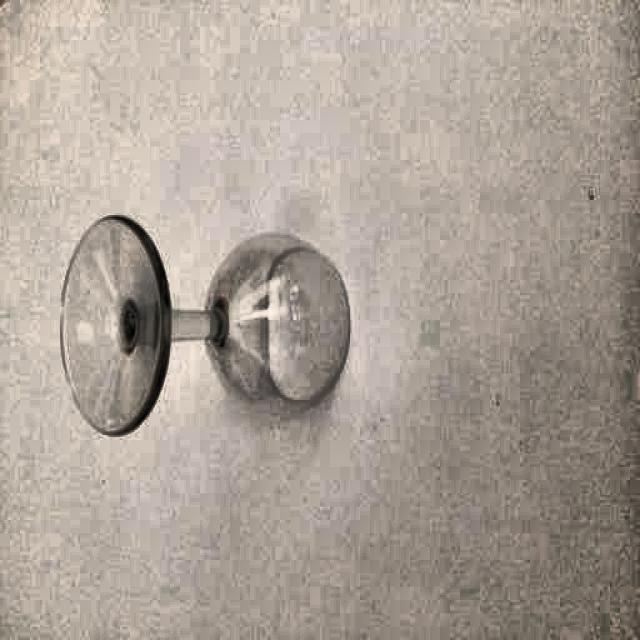glass: (58, 214, 358, 444)
